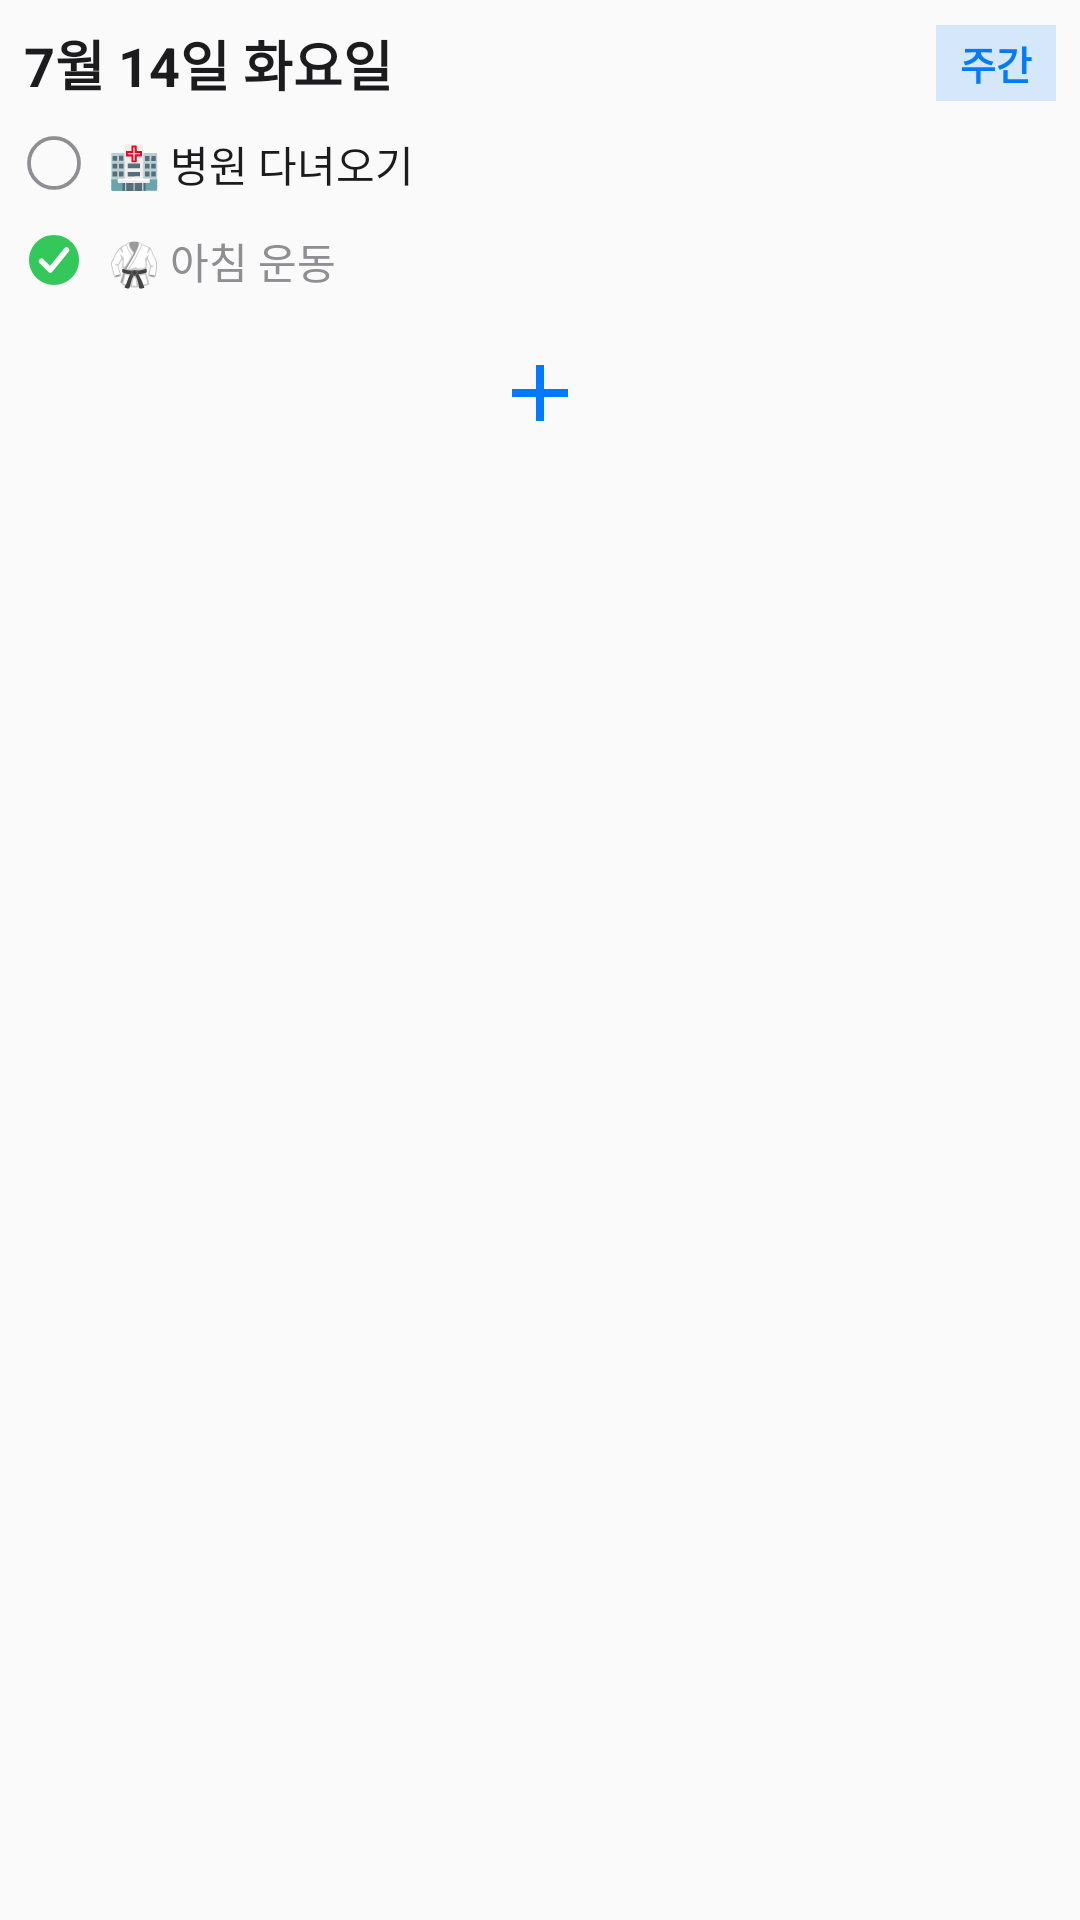

Named icons in this screenshot (1080 × 1920) and their centers, point (x, y):
widget add: point (540, 393)
widget check off: point (54, 163)
widget check on: point (54, 260)
